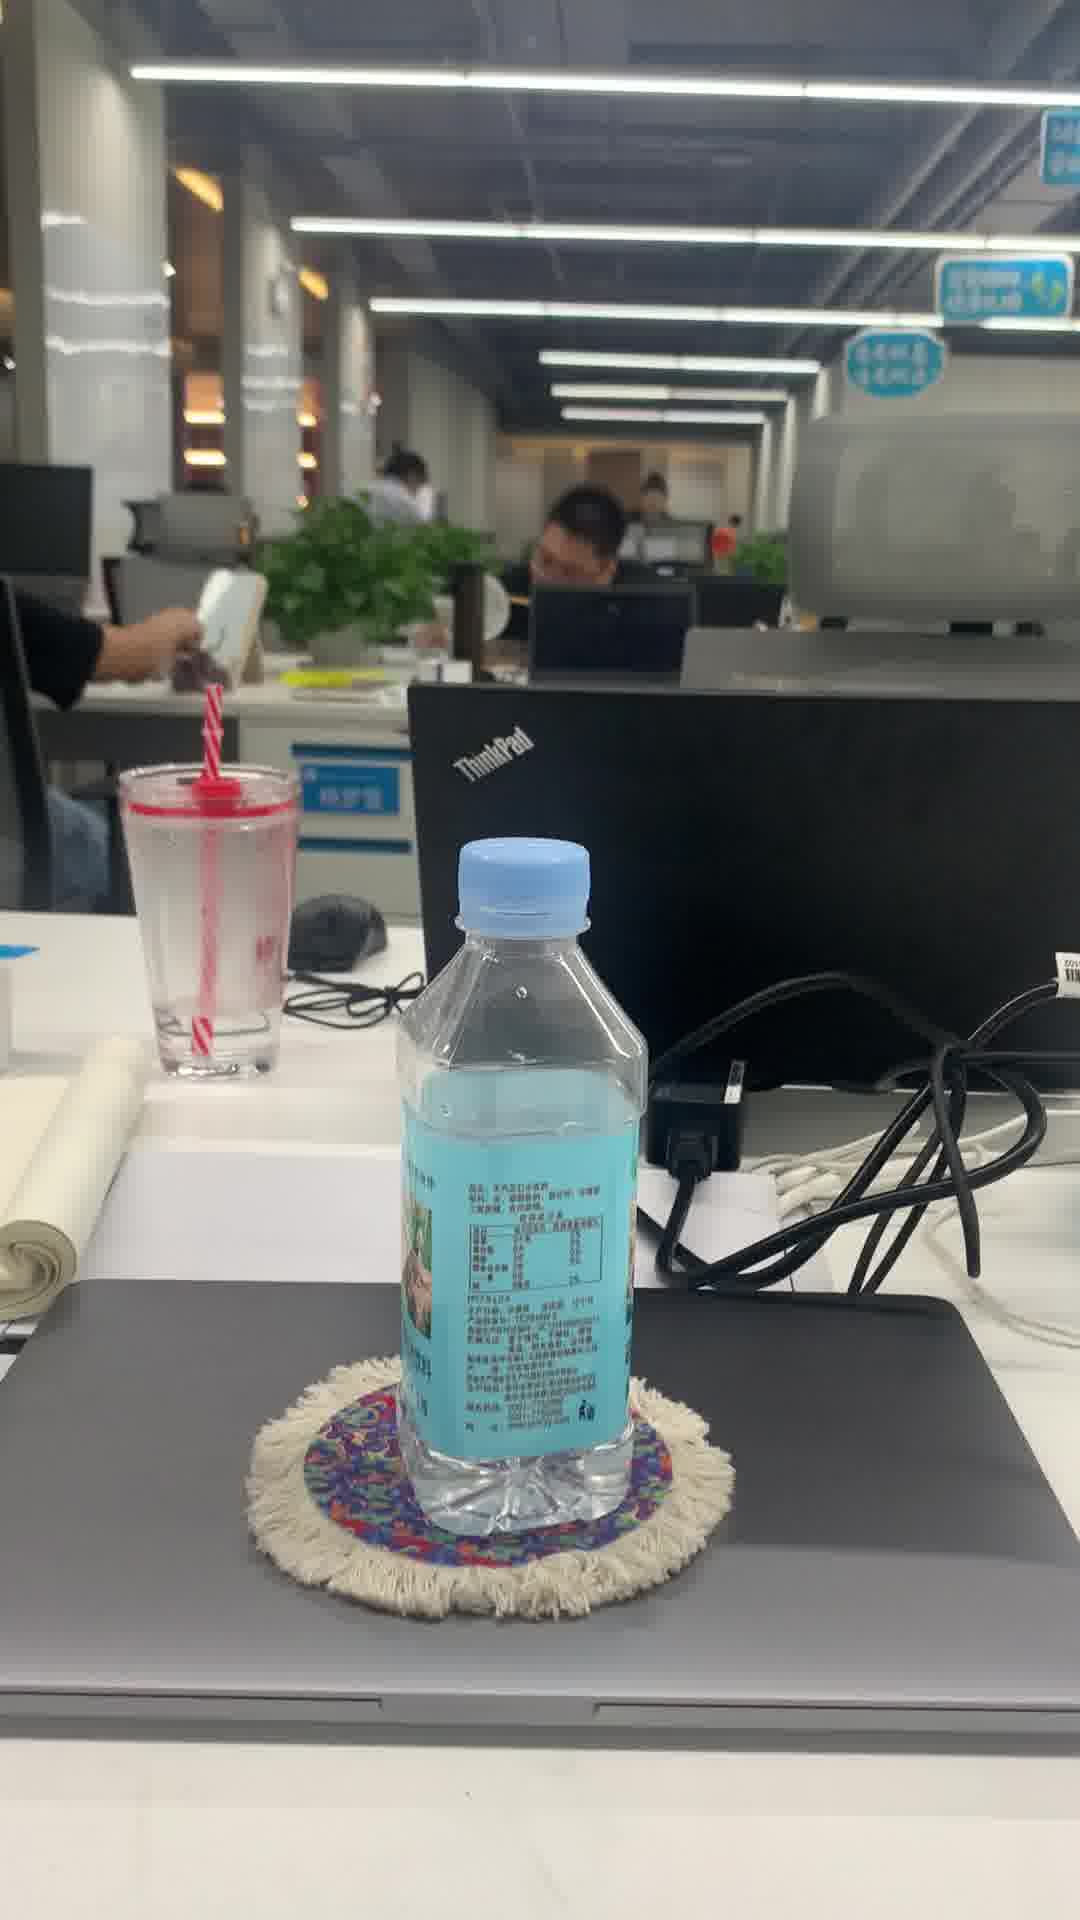水瓶: (389, 828, 654, 1542)
